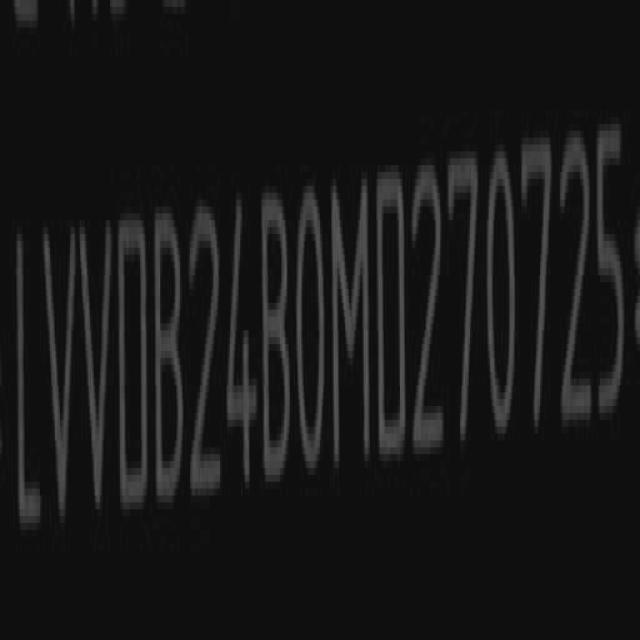0: (487, 137, 520, 450), (296, 178, 326, 472)
2: (189, 204, 226, 512), (558, 125, 594, 438), (414, 161, 449, 471)
4: (224, 194, 257, 505)
5: (597, 115, 630, 432)
7: (448, 146, 481, 462), (524, 130, 555, 448)
B: (261, 189, 293, 493), (156, 209, 187, 516)
D: (116, 214, 151, 520), (378, 164, 412, 477)
L: (13, 223, 43, 546)
M: (332, 173, 373, 481)
V: (80, 216, 116, 532), (40, 220, 75, 542)
